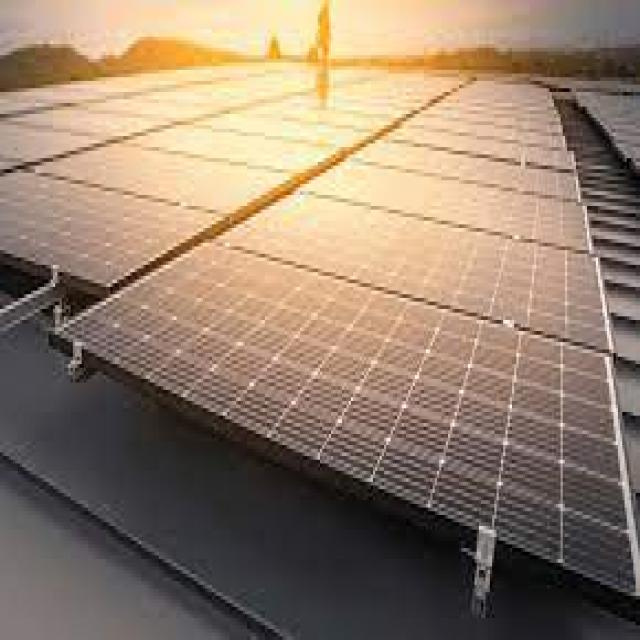clean-solar-panel: (62, 81, 640, 593), (0, 65, 461, 294)
